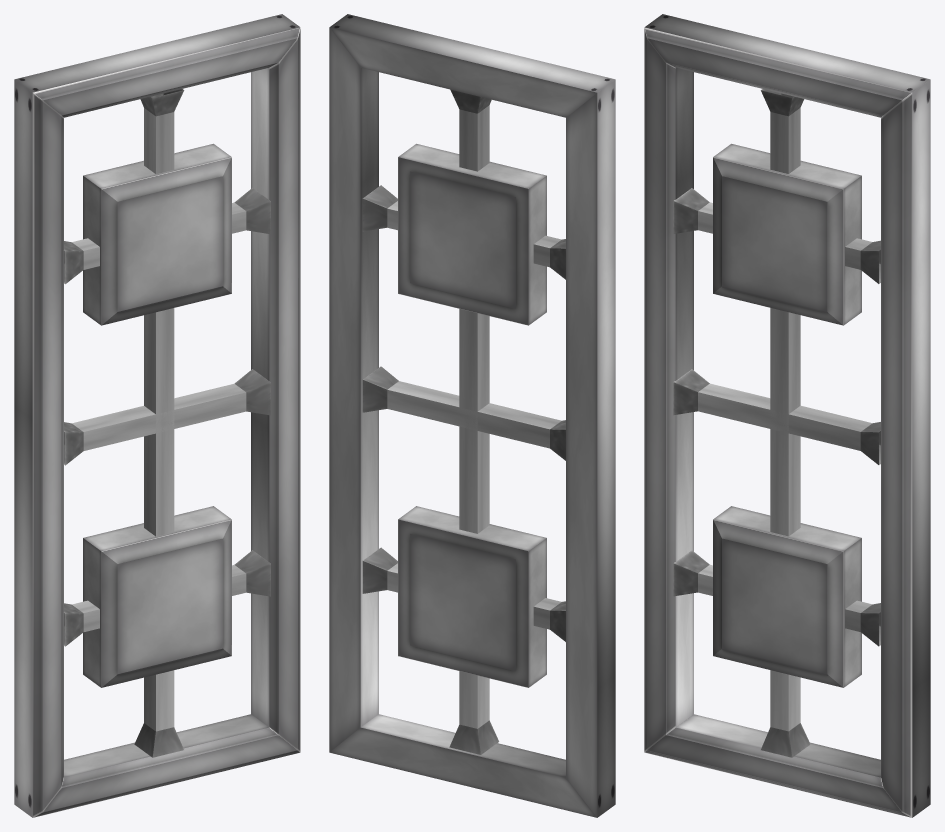
File: MediumBuggyChassis.FBX
3 renders of one model, left to right at view 1: azimuth 30°, elevation 25°; view 2: azimuth 150°, elevation 25°; view 3: azimuth 330°, elevation 25°, orthographic.
Parts seen in each view (by area): view 1: Frame002, TopHardpoint003, TopHardpoint002, Pilar013, Pilar015, Pilar012, Pilar014; view 2: Frame002, TopHardpoint002, TopHardpoint003, Pilar013, Pilar015, Pilar014, Pilar012; view 3: Frame002, TopHardpoint003, TopHardpoint002, Pilar013, Pilar015, Pilar012, Pilar014.
Boxes of the visible parts, box(x1,y1,x2,y2) form: Frame002: box(14, 14, 300, 817); TopHardpoint003: box(83, 506, 231, 687); TopHardpoint002: box(83, 143, 231, 325); Pilar013: box(134, 89, 184, 757); Pilar015: box(64, 369, 270, 465); Pilar012: box(64, 188, 270, 284); Pilar014: box(64, 550, 270, 646); Frame002: box(329, 14, 615, 817); TopHardpoint002: box(398, 143, 546, 325); TopHardpoint003: box(398, 506, 546, 687); Pilar013: box(449, 89, 499, 754); Pilar015: box(362, 366, 565, 460); Pilar014: box(362, 547, 565, 641); Pilar012: box(362, 185, 565, 279); Frame002: box(644, 14, 930, 817); TopHardpoint003: box(713, 506, 861, 687); TopHardpoint002: box(713, 143, 861, 325); Pilar013: box(760, 89, 810, 757); Pilar015: box(673, 369, 880, 464); Pilar012: box(673, 188, 880, 283); Pilar014: box(673, 550, 880, 646).
Size of the model in its own units: 0.4226 by 1.09 by 0.06.
